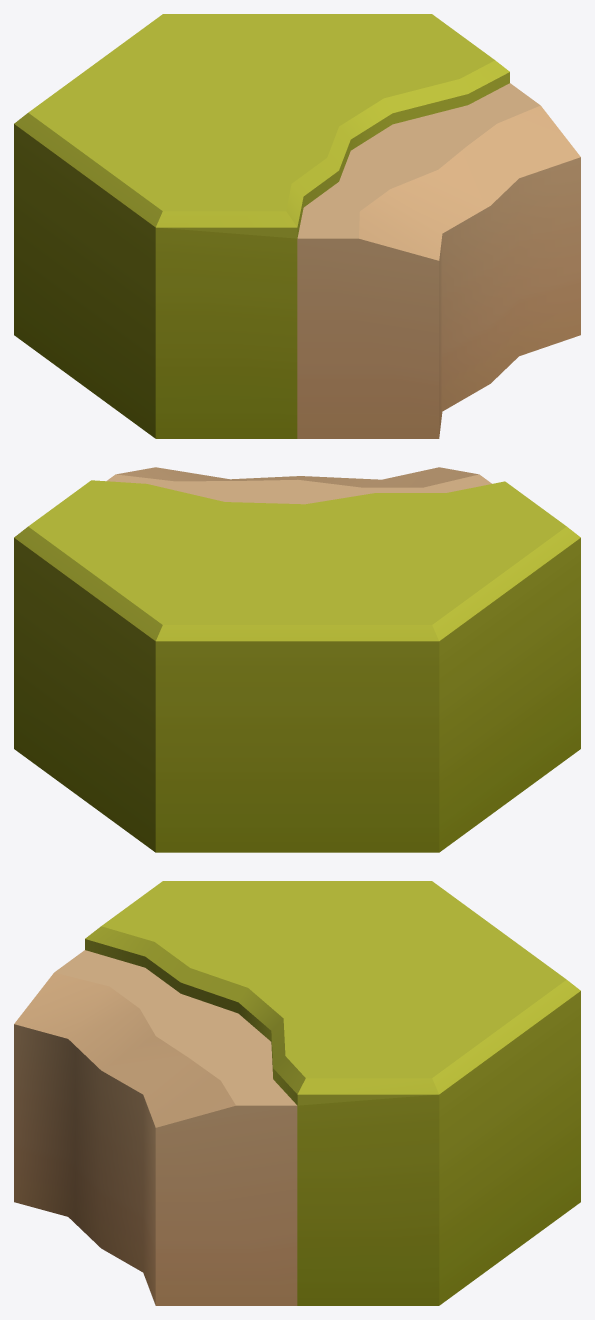
Rendered from b_hexa_sol_sable.glb.
3 views of the same model, one above another, from view 1: azimuth 30°, elevation 25°; view 2: azimuth 150°, elevation 25°; view 3: azimuth 270°, elevation 25° (orthographic).
Parts seen in each view (by area): view 1: b_hexa_sol_sable; view 2: b_hexa_sol_sable; view 3: b_hexa_sol_sable.
Part boxes in pixels (x1,y1,x2,y2): b_hexa_sol_sable: (14,14,580,438); b_hexa_sol_sable: (14,467,580,852); b_hexa_sol_sable: (14,881,580,1305).
Size of the model in its own units: 2 by 1 by 2.31.
1 material, 1 textured.
